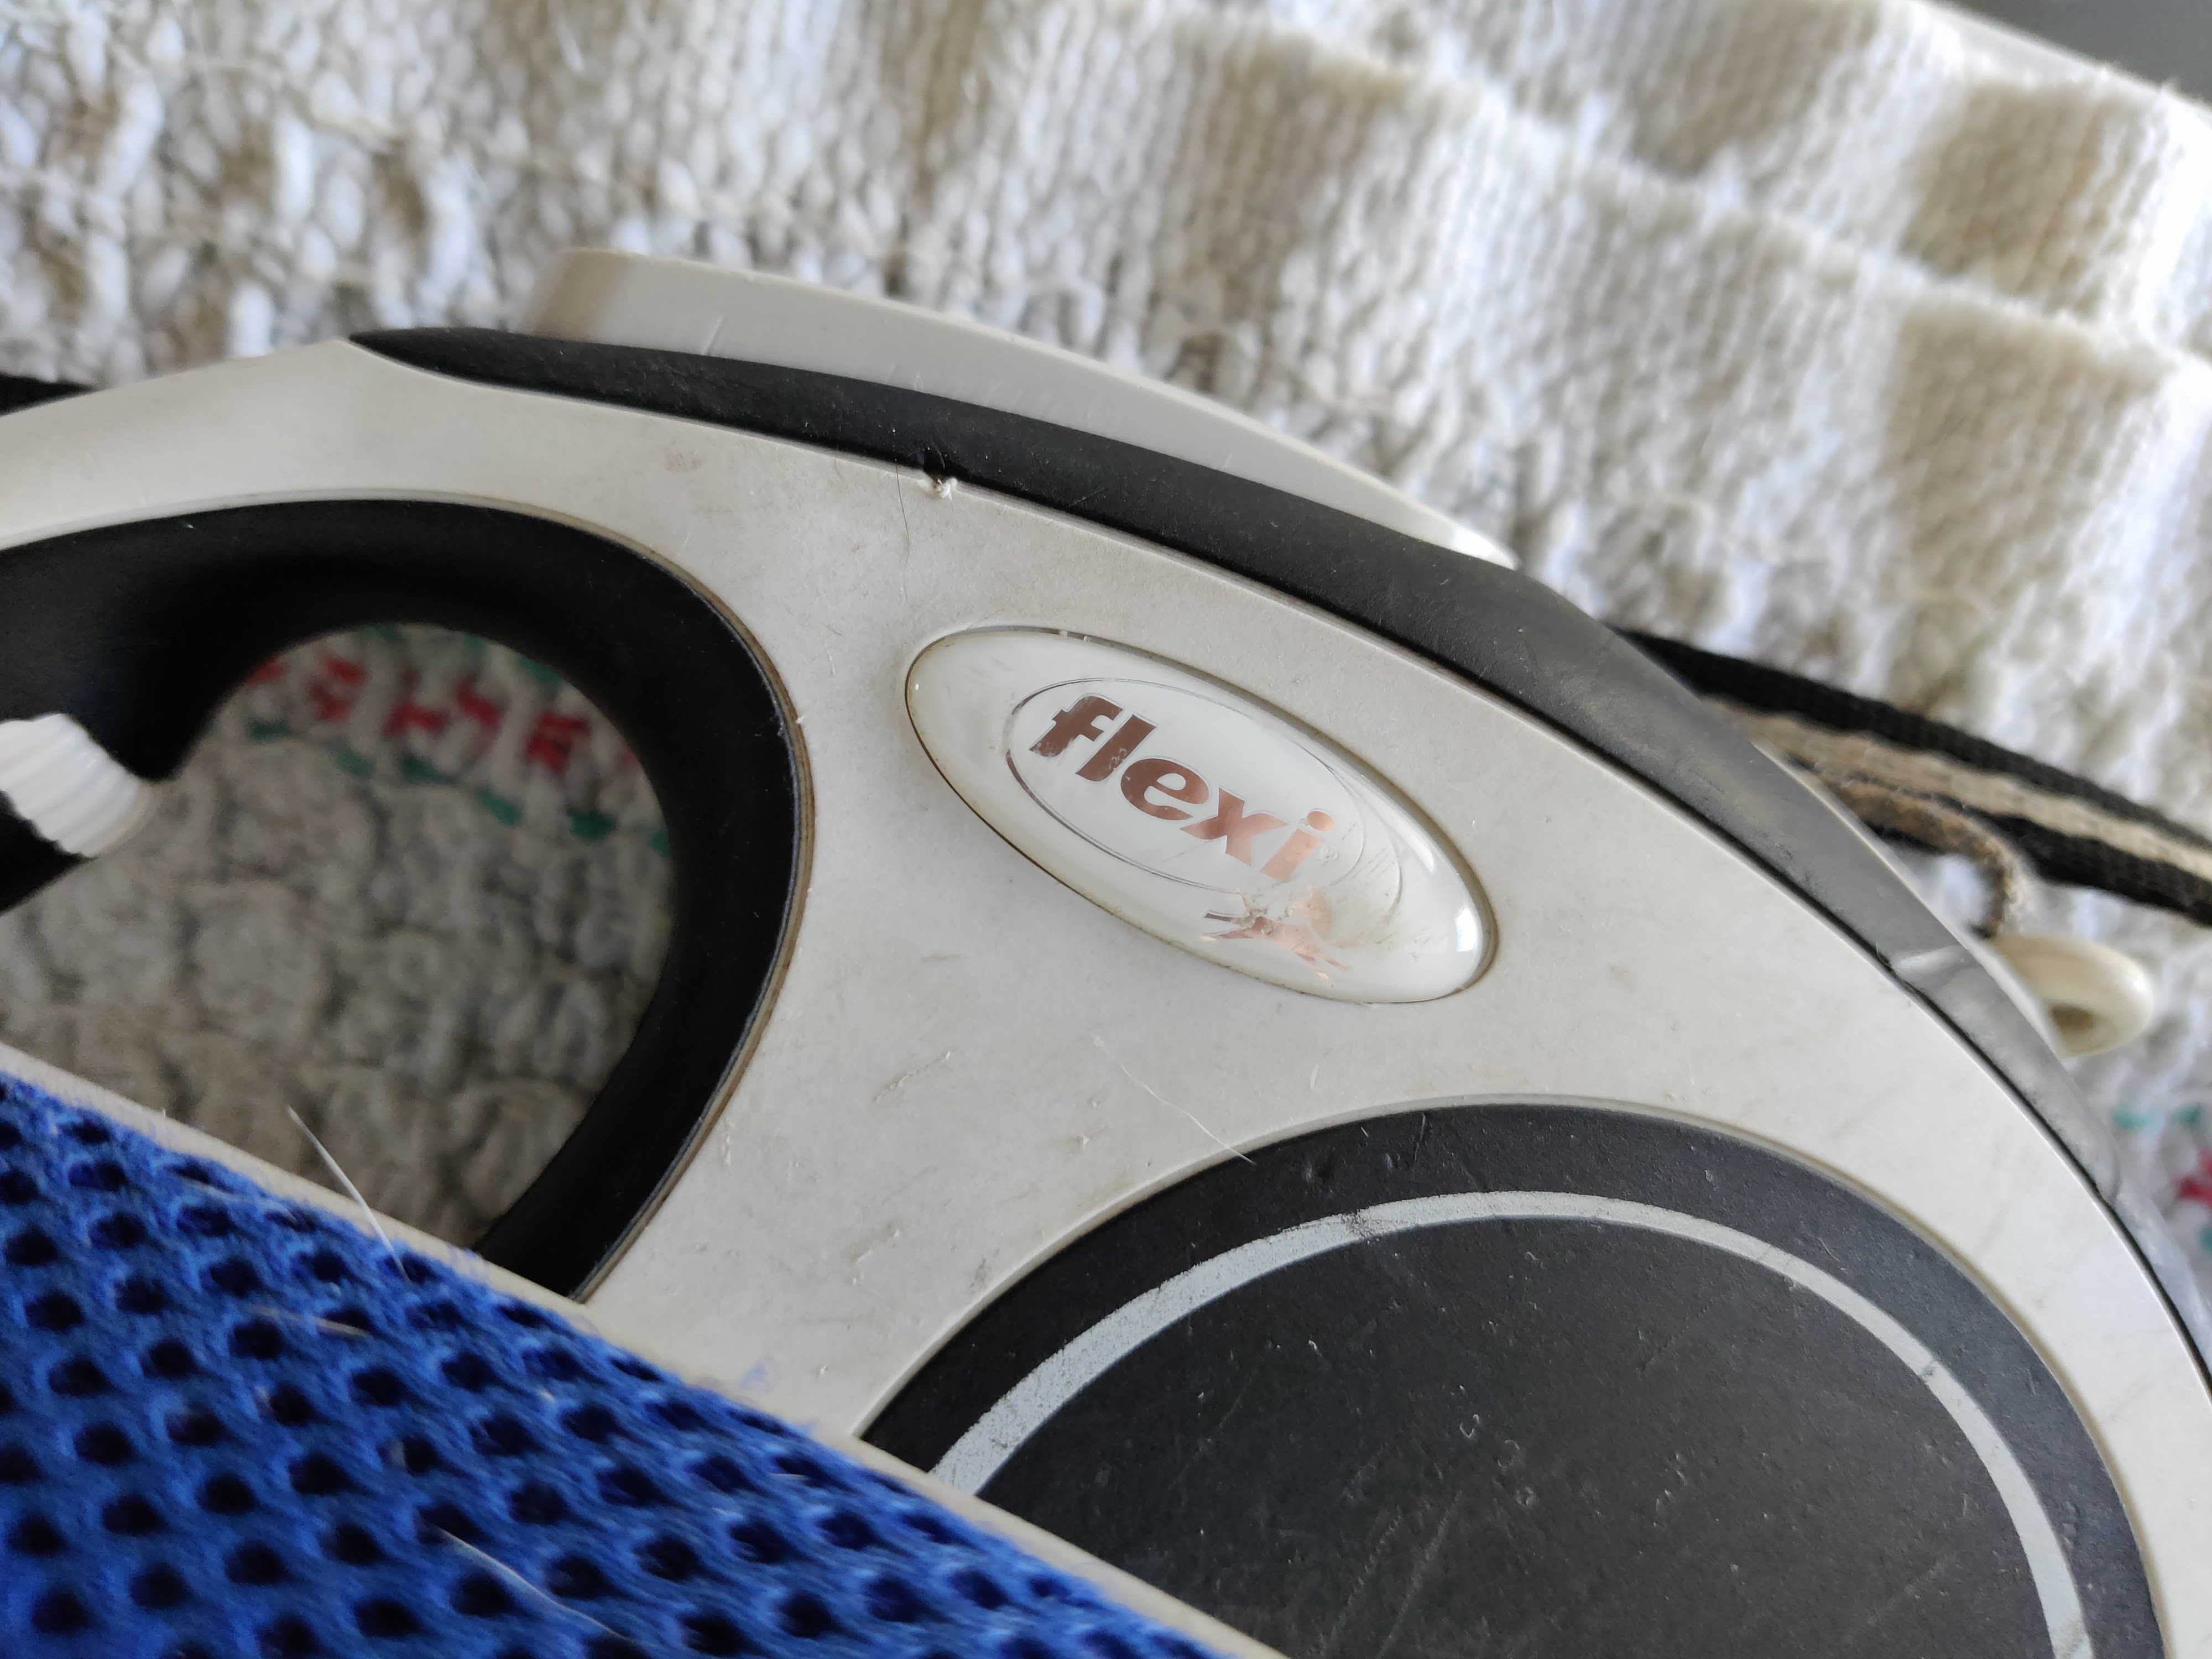Dog: (1188, 880, 1353, 985)
